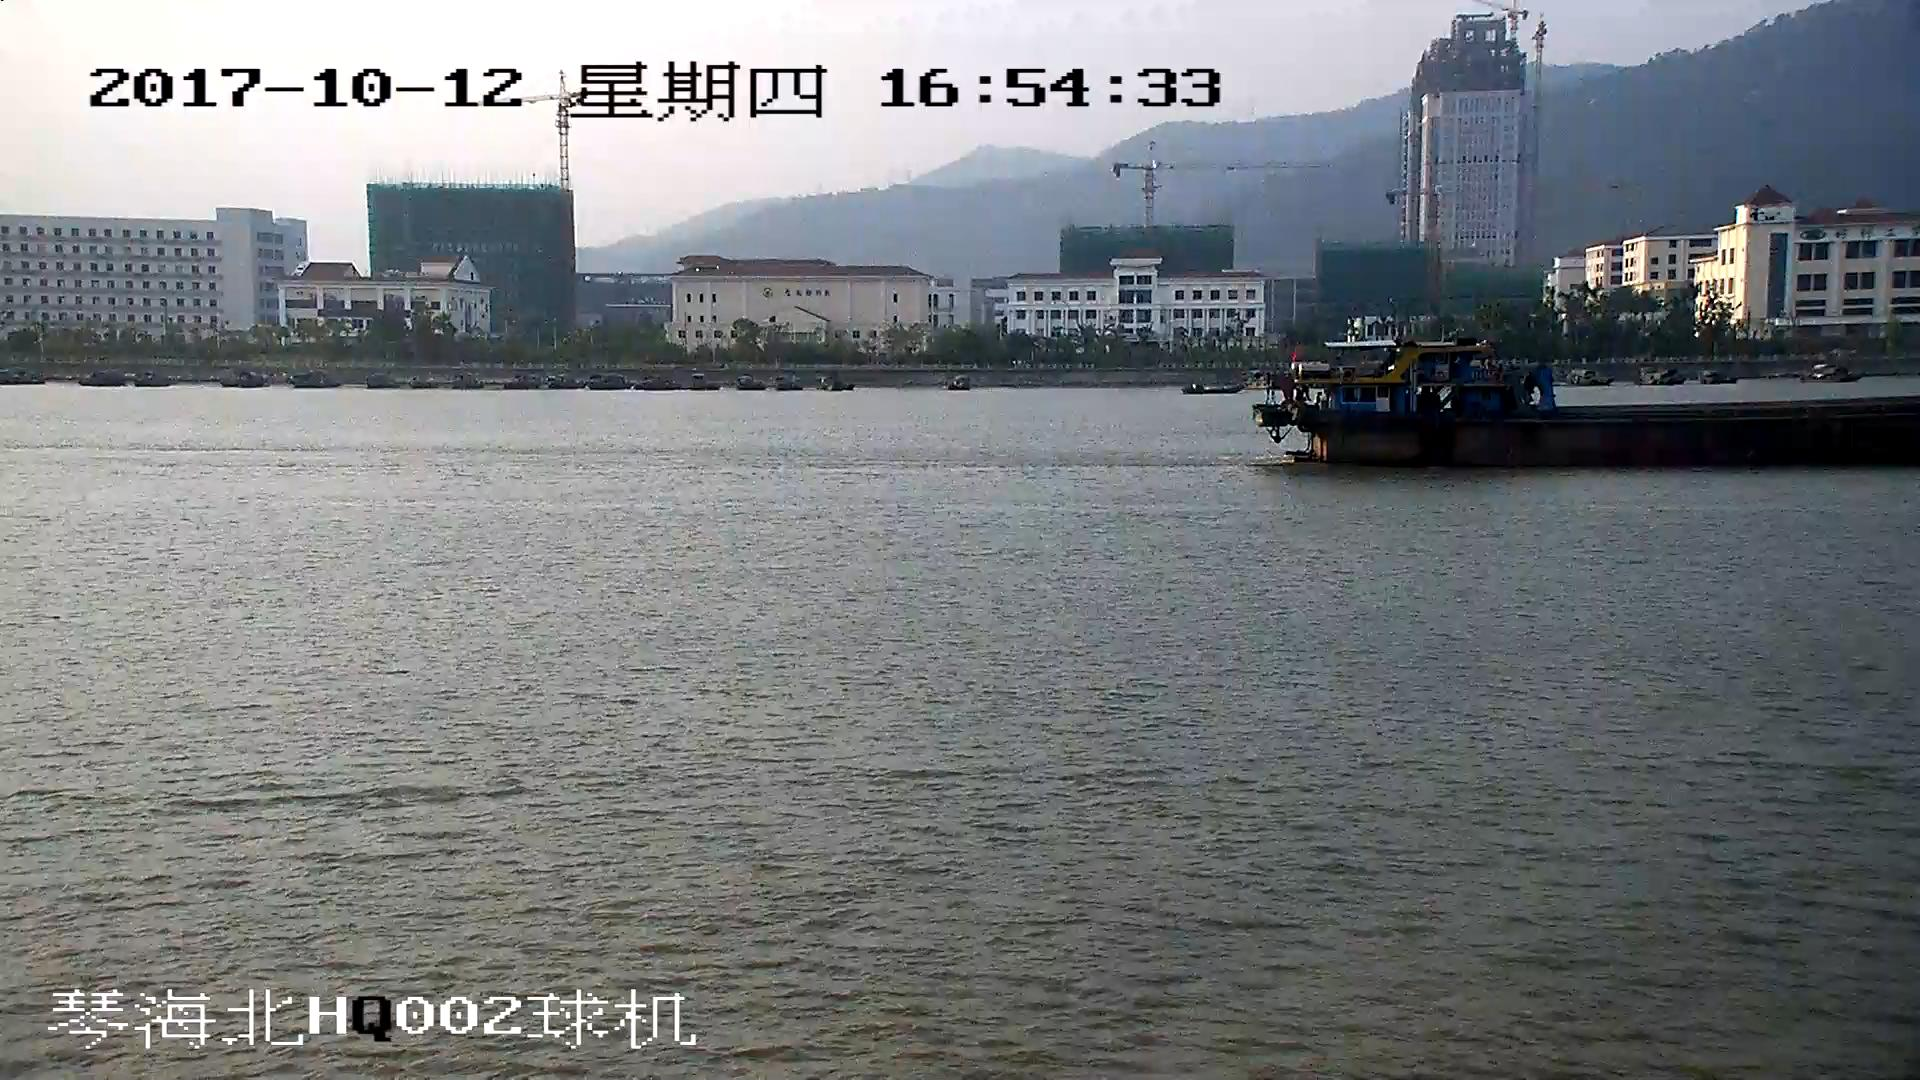bulk cargo carrier: (1255, 344, 1920, 457)
